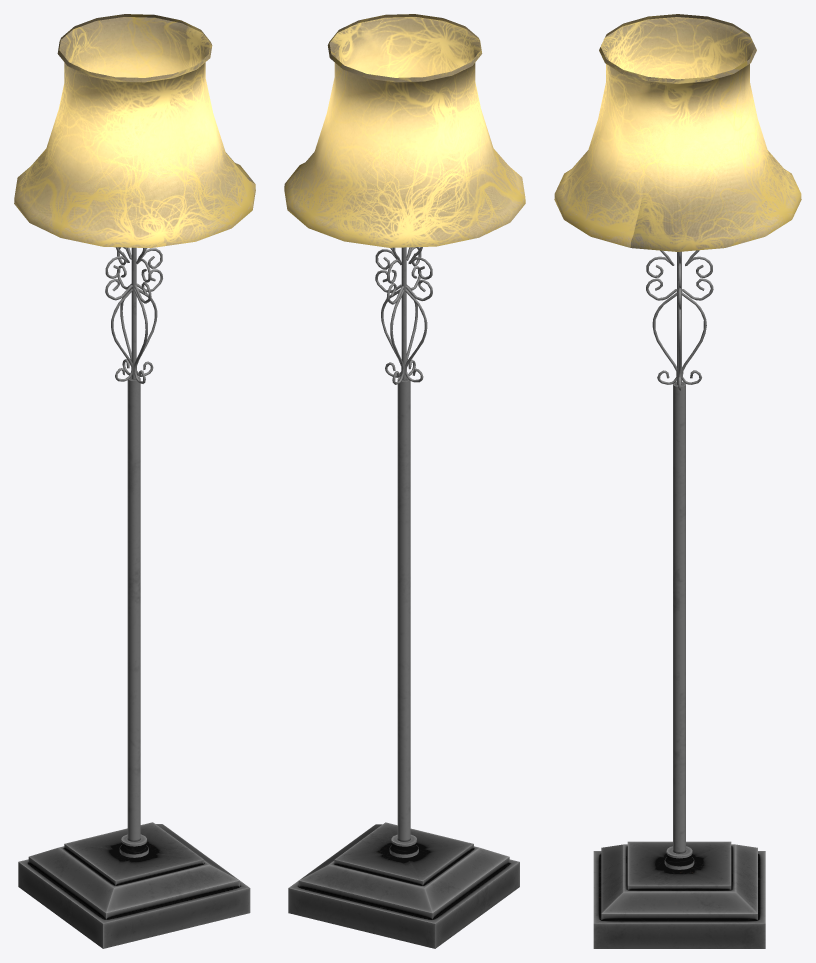
The picture shows the model from 3 angles, left to right: view 1: azimuth 30°, elevation 25°; view 2: azimuth 150°, elevation 25°; view 3: azimuth 270°, elevation 25°; orthographic projection.
Visible parts, largest first — view 1: floor_lamp; view 2: floor_lamp; view 3: floor_lamp.
Part boxes in pixels (x1,y1,x2,y2): floor_lamp: [14, 14, 255, 948]; floor_lamp: [284, 14, 525, 948]; floor_lamp: [554, 14, 801, 948].
Bounding box in the file's own units: 0.5172 × 2 × 0.5172.
1 material, 1 textured.
